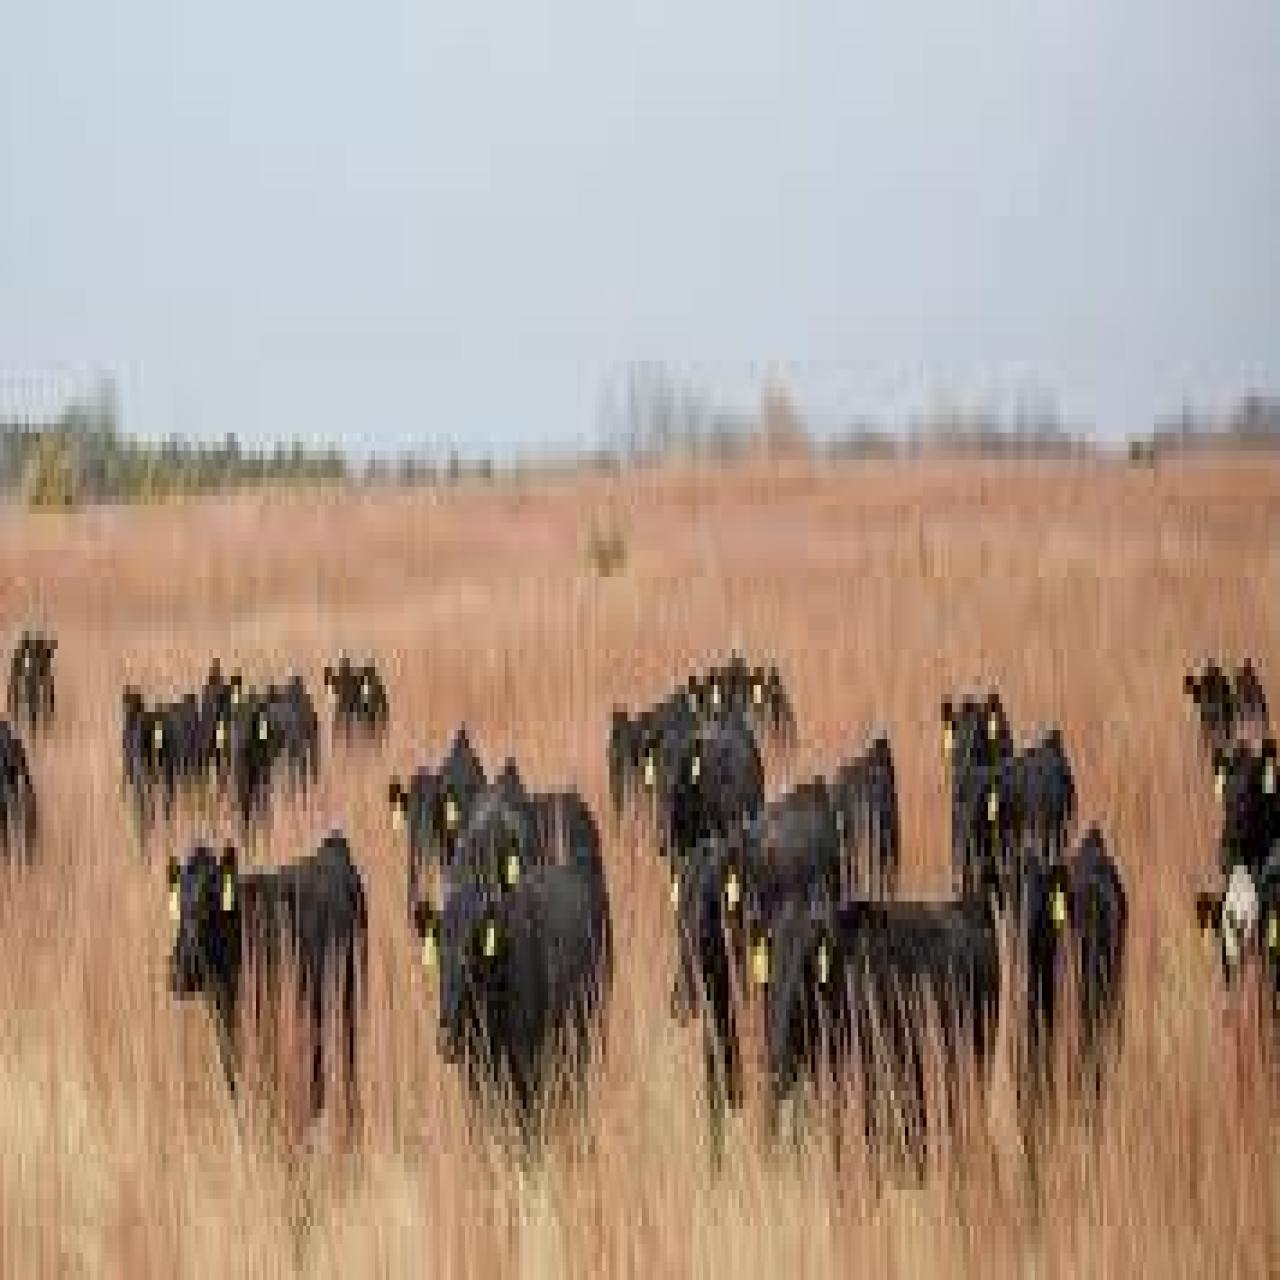cow: (754, 887, 1006, 1194), (669, 779, 842, 1176), (166, 838, 368, 1153), (413, 870, 604, 1194), (1024, 829, 1132, 1091), (389, 730, 493, 938), (959, 726, 1078, 860), (642, 730, 768, 856), (220, 681, 321, 833), (117, 685, 204, 847), (1214, 740, 1276, 884), (321, 654, 386, 753), (6, 626, 63, 735), (0, 726, 40, 860)
